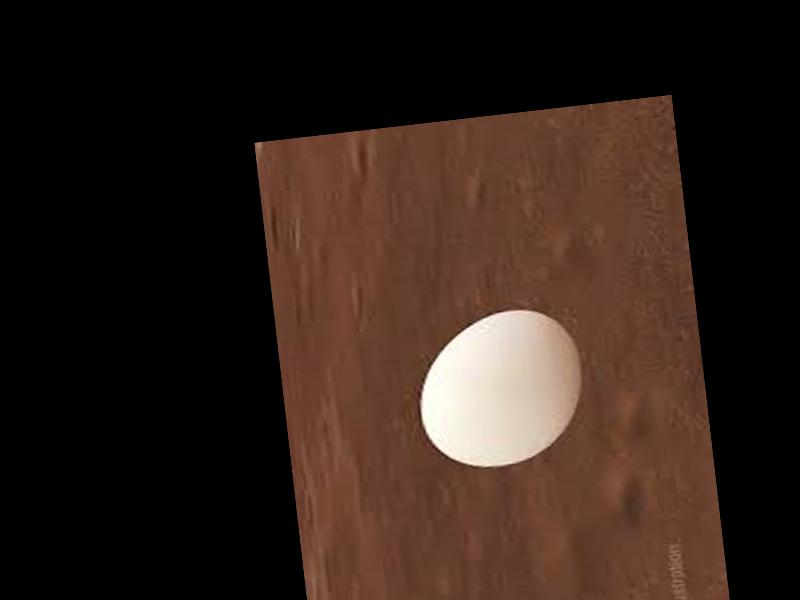Eggs: (411, 301, 590, 474)
